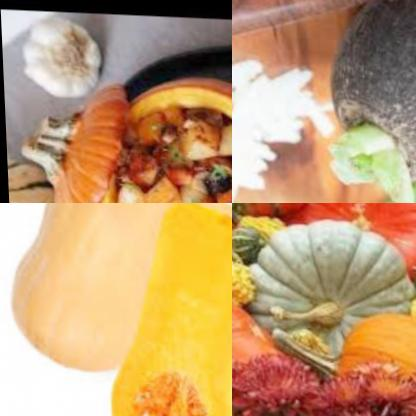garlic: (14, 12, 104, 97)
pumpkin: (0, 203, 215, 382), (95, 203, 232, 416), (240, 215, 416, 365), (98, 67, 232, 203), (15, 61, 137, 203), (328, 310, 416, 416), (296, 203, 416, 280), (232, 274, 295, 416), (395, 261, 416, 343)
redka: (316, 0, 416, 193), (232, 47, 329, 203)
